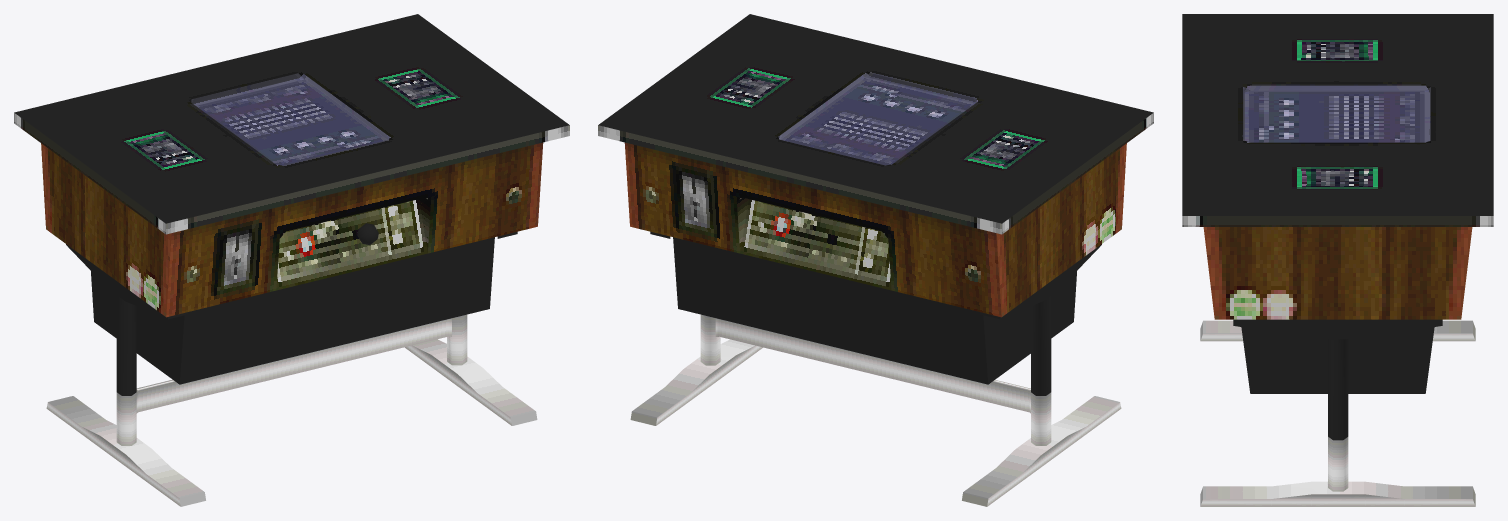
File: ps2_save-icons_spaceinvadersanniversary.glb
3 renders of one model, left to right at view 1: azimuth 30°, elevation 25°; view 2: azimuth 150°, elevation 25°; view 3: azimuth 270°, elevation 25°, orthographic. The views are drawn at different scales.
Visible parts, largest first — view 1: sia_icon.ico; view 2: sia_icon.ico; view 3: sia_icon.ico.
Part boxes in pixels (left/top/right/bottom): sia_icon.ico: left=14, top=14, right=569, bottom=506; sia_icon.ico: left=598, top=14, right=1153, bottom=506; sia_icon.ico: left=1182, top=14, right=1493, bottom=506.
Bounding box in the file's own units: 3.22 × 2.25 × 2.1.
1 material, 1 textured.
